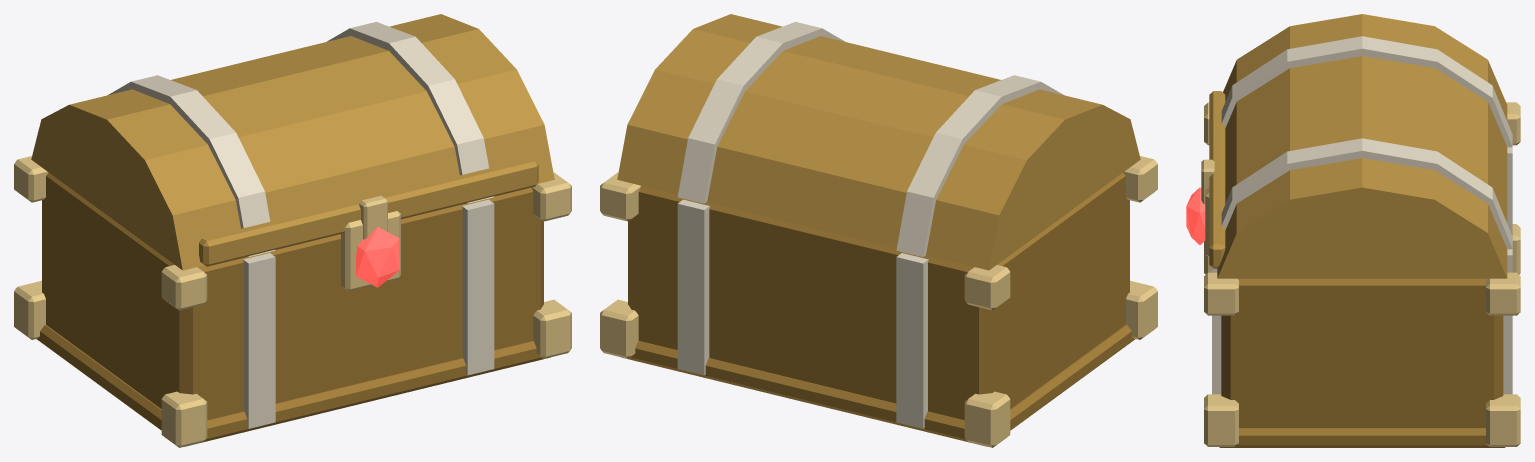
Rendered from Chest_Golden.fbx.
The picture shows the model from 3 angles, left to right: view 1: azimuth 30°, elevation 25°; view 2: azimuth 150°, elevation 25°; view 3: azimuth 270°, elevation 25°; orthographic projection. The views are drawn at different scales.
Parts seen in each view (by area): view 1: Lid, Box, Straps, Fittings, Gem; view 2: Box, Lid, Straps, Fittings; view 3: Lid, Box, Straps, Fittings, Gem.
Boxes of the visible parts, x1,y1,x2,y2 form: Lid: [31, 14, 554, 270]; Box: [36, 172, 550, 446]; Straps: [108, 22, 494, 428]; Fittings: [14, 156, 571, 447]; Gem: [356, 227, 399, 287]; Box: [621, 172, 1135, 446]; Lid: [617, 14, 1140, 270]; Straps: [677, 22, 1063, 428]; Fittings: [600, 156, 1157, 447]; Lid: [1209, 14, 1507, 278]; Box: [1219, 278, 1505, 447]; Straps: [1212, 36, 1512, 394]; Fittings: [1201, 102, 1520, 446]; Gem: [1186, 187, 1205, 244].
Size of the model in its own units: 3.26 by 2.21 by 2.49.
